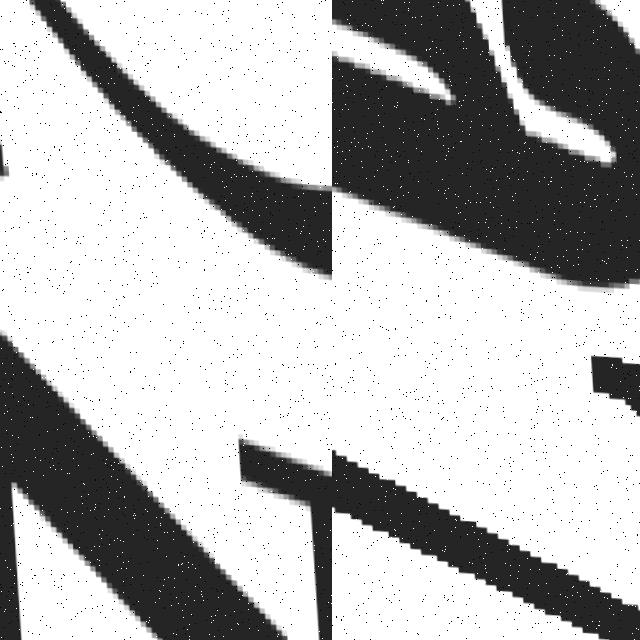2: (0, 0, 332, 297)
7: (332, 300, 640, 640)
A: (332, 0, 640, 300)
Z: (0, 300, 332, 640)
